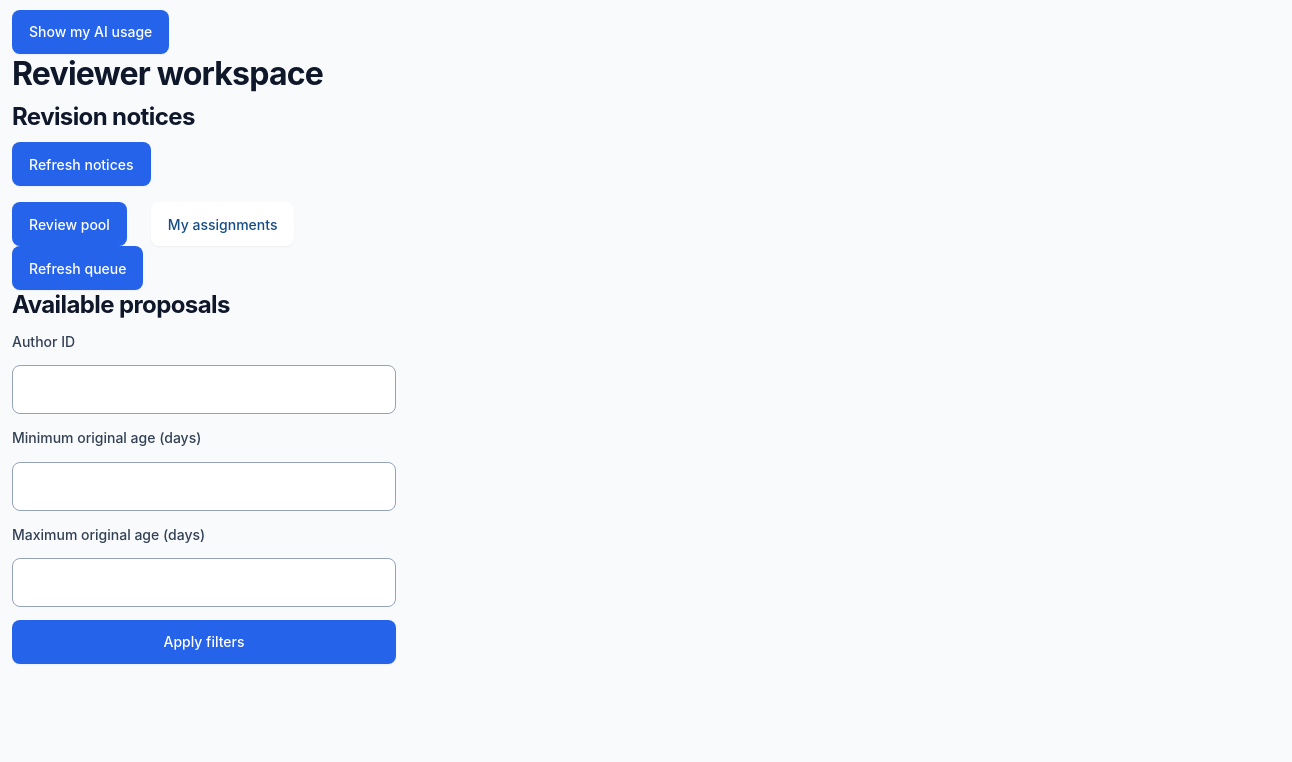
Test: Reviewer usage › discards late fetch completion after access loss
This screenshot has width=1292, height=762.
What coordinates should you click on to do the following:
click the button "Show my AI usage"
I would click on:
 (91, 32)
Its box is left=12, top=10, right=169, bottom=54.
(page scrolled)
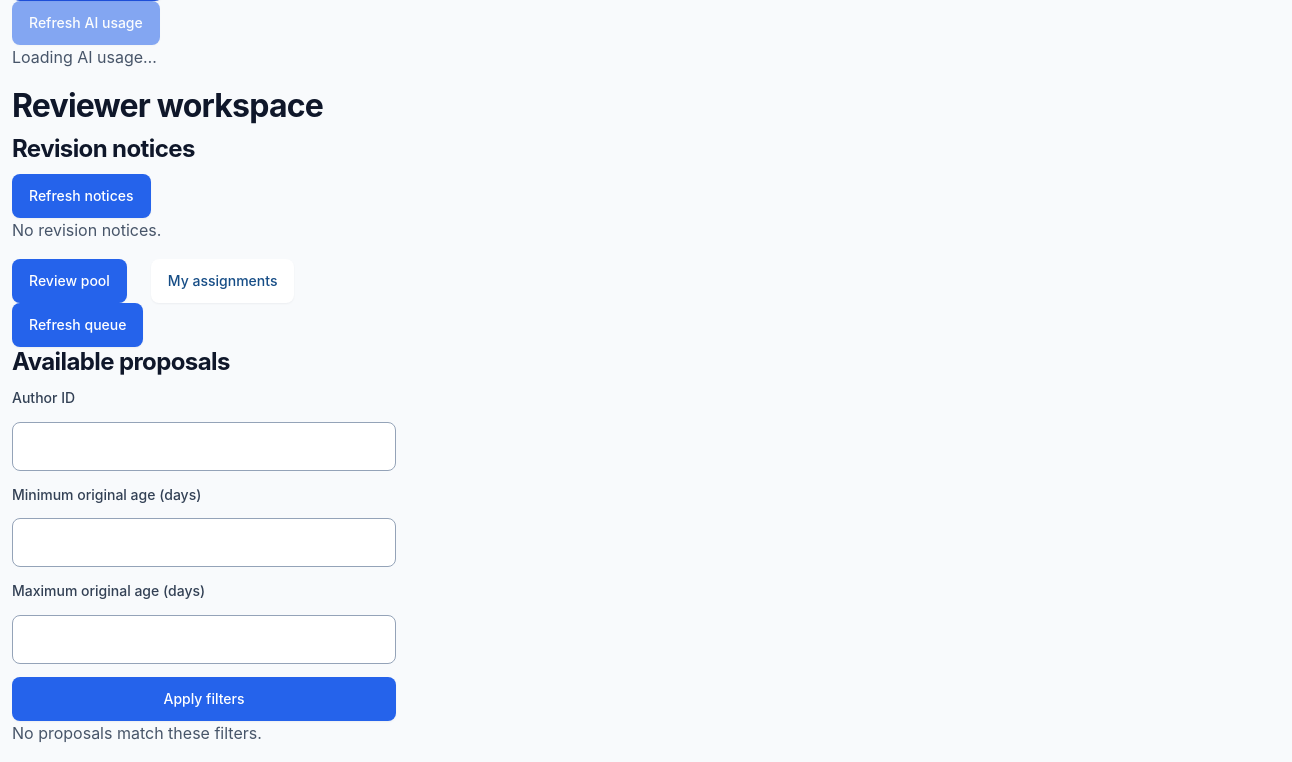
What coordinates should you click on to do the following:
click the button "Apply filters"
I would click on:
 (204, 699)
Its box is left=12, top=677, right=396, bottom=721.
(page scrolled)
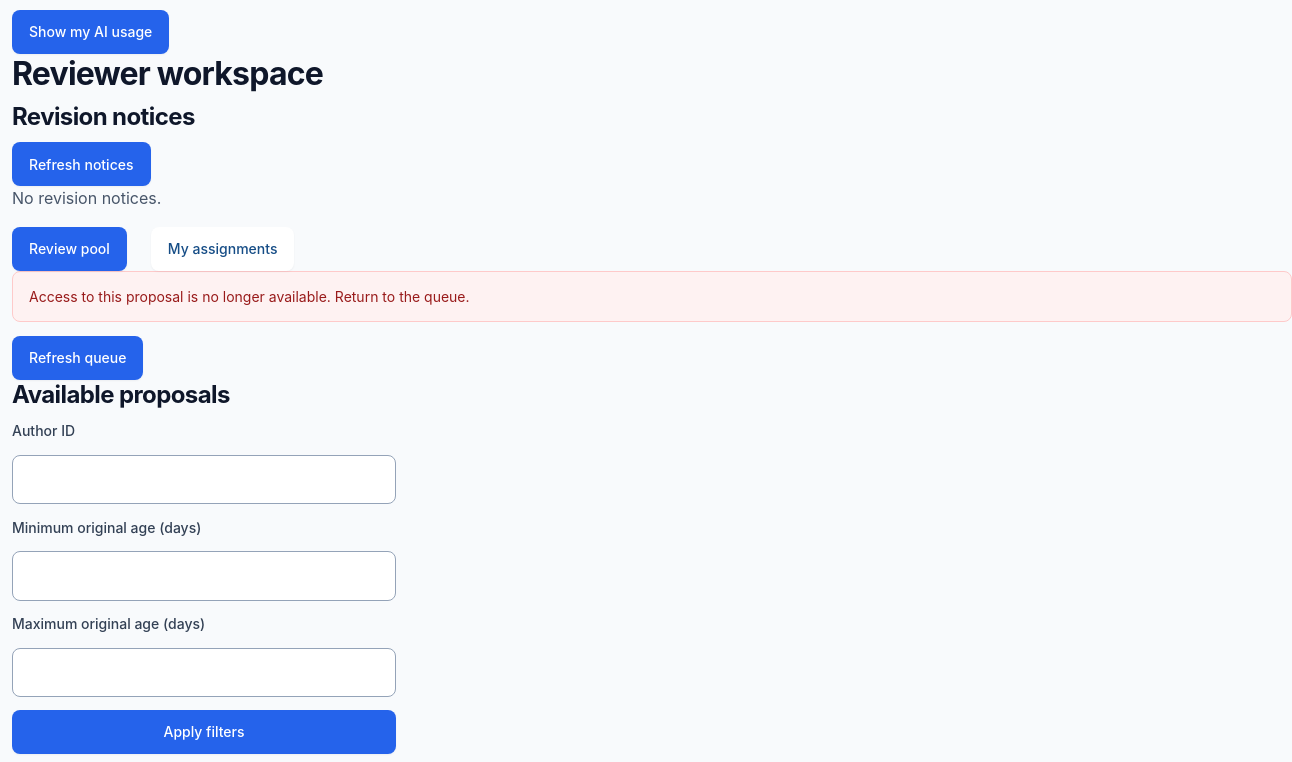
Now the text "Access to this proposal is no longer available. Return to the queue." is shown, box left=12, top=271, right=1291, bottom=322
